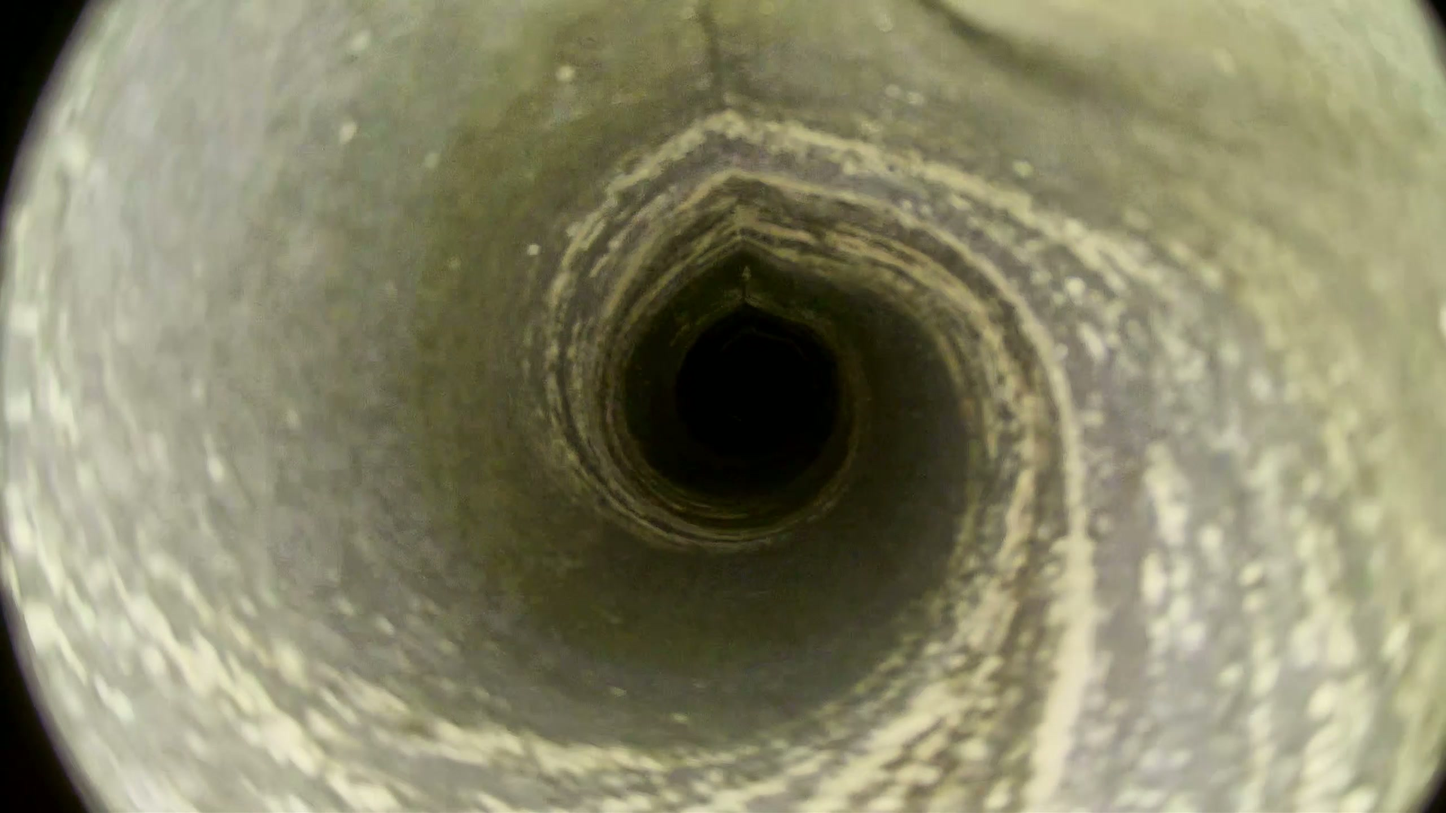hole: (681, 315, 829, 455)
